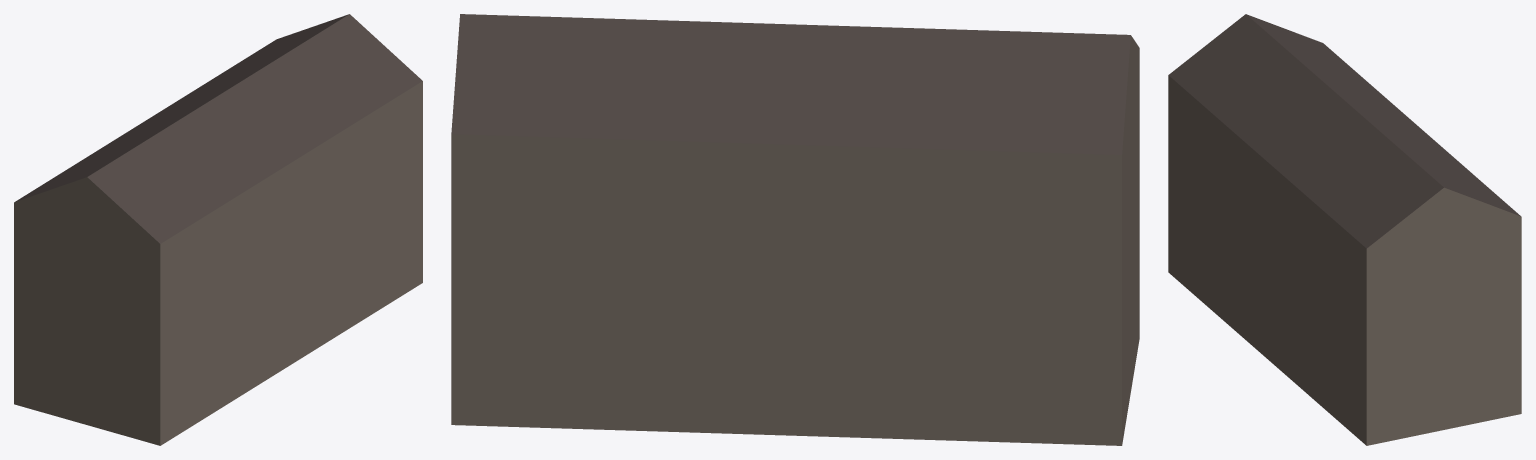
The picture shows the model from 3 angles, left to right: view 1: azimuth 30°, elevation 25°; view 2: azimuth 150°, elevation 25°; view 3: azimuth 270°, elevation 25°; orthographic projection. The views are drawn at different scales.
Visible parts, largest first — view 1: HP-w776801043; view 2: HP-w776801043; view 3: HP-w776801043.
Boxes of the visible parts, left/top/right/bottom form: HP-w776801043: left=14, top=14, right=422, bottom=445; HP-w776801043: left=451, top=14, right=1139, bottom=445; HP-w776801043: left=1168, top=14, right=1521, bottom=445.
Bounding box in the file's own units: 13.41 × 7.37 × 9.73.
